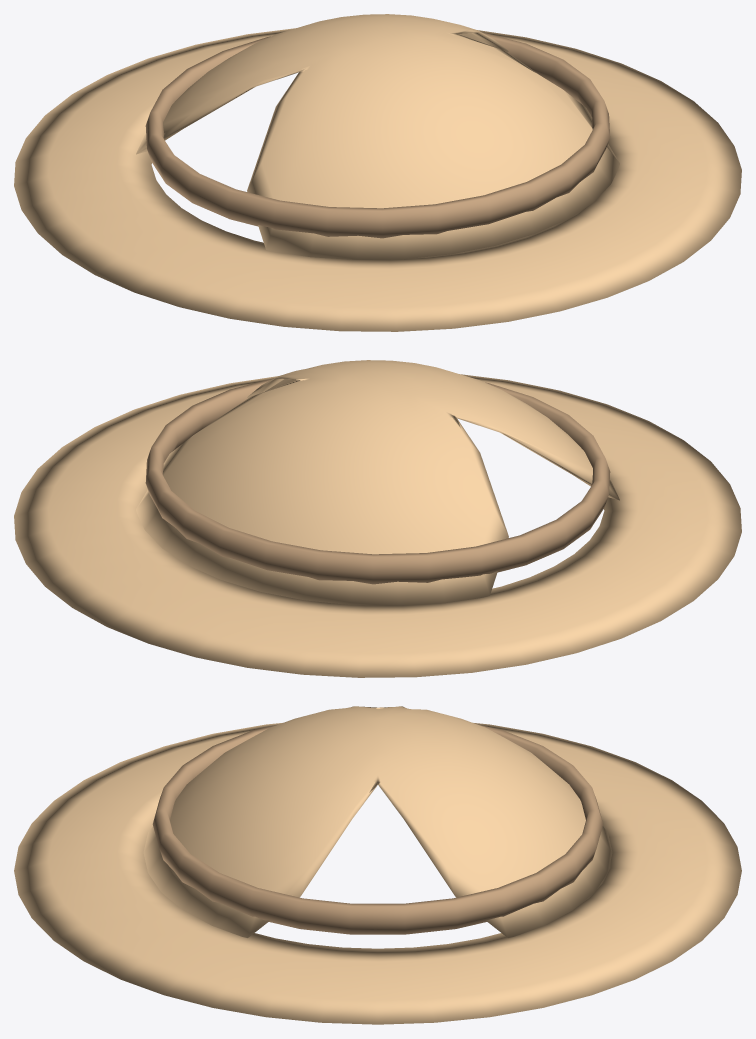
Rendered from strawhat.glb.
3 views of the same model, one above another, from view 1: azimuth 30°, elevation 25°; view 2: azimuth 150°, elevation 25°; view 3: azimuth 270°, elevation 25° (orthographic).
Parts seen in each view (by area): view 1: strawhat; view 2: strawhat; view 3: strawhat.
Boxes of the visible parts, x1,y1,x2,y2 form: strawhat: (14, 14, 741, 331); strawhat: (14, 360, 741, 677); strawhat: (14, 706, 741, 1024).
Size of the model in its own units: 0.5914 by 0.1234 by 0.5914.
